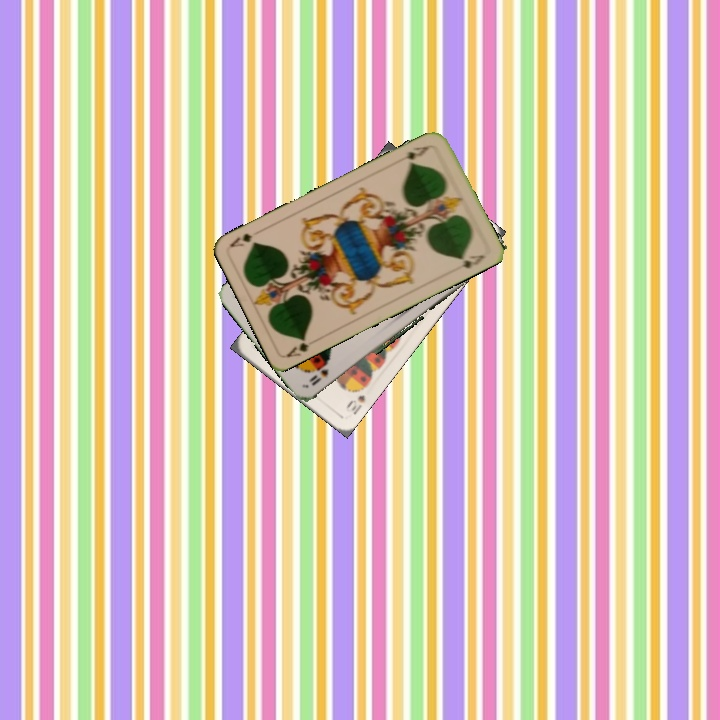GA: (283, 333, 321, 360), (395, 141, 434, 167)
S10: (341, 390, 368, 417)
SO: (307, 364, 332, 388)
